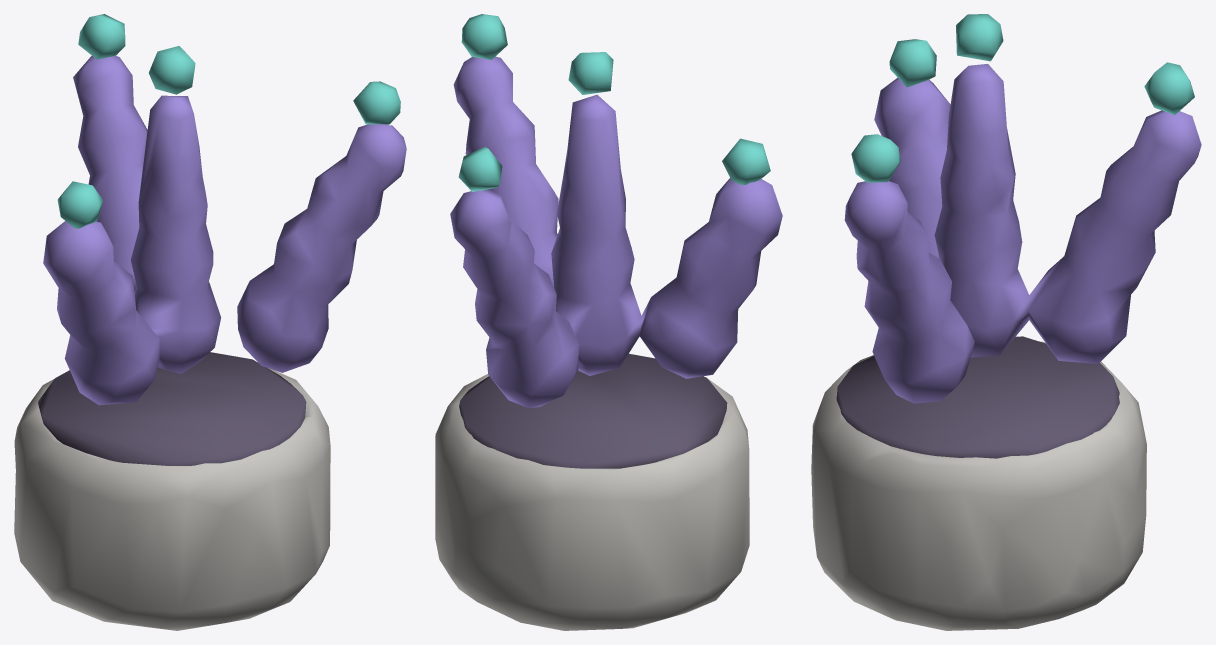
Rendered from plant_tall.glb.
3 views of the same model, side by side, from view 1: azimuth 30°, elevation 25°; view 2: azimuth 150°, elevation 25°; view 3: azimuth 270°, elevation 25° (orthographic). The views are drawn at different scales.
Parts seen in each view (by area): view 1: plant_tall, plant_tall_glow; view 2: plant_tall, plant_tall_glow; view 3: plant_tall, plant_tall_glow.
Boxes of the visible parts, x1,y1,x2,y2 form: plant_tall: (14,55,406,630); plant_tall_glow: (57,14,400,228); plant_tall: (435,56,782,630); plant_tall_glow: (458,14,770,191); plant_tall: (811,64,1201,630); plant_tall_glow: (851,14,1194,182).
Bounding box in the file's own units: 0.8406 × 1.26 × 0.7943.
